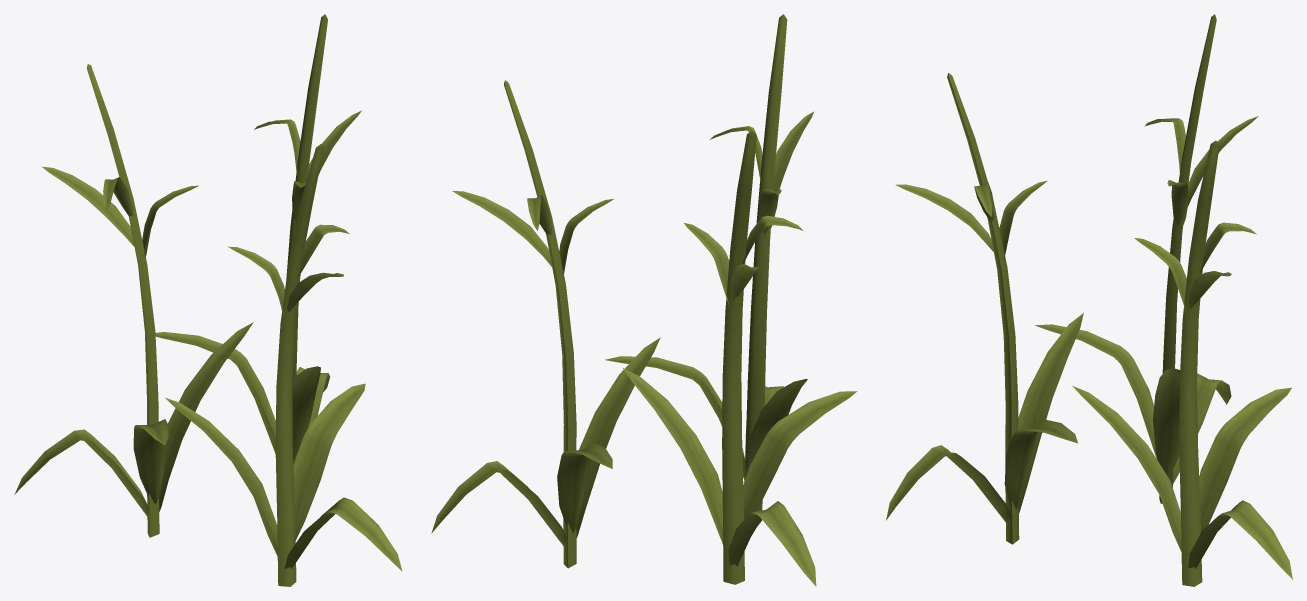
The model's file is Crop_Wheat_Stage_03.fbx.
3 renders of one model, left to right at view 1: azimuth 30°, elevation 25°; view 2: azimuth 150°, elevation 25°; view 3: azimuth 270°, elevation 25°, orthographic. The views are drawn at different scales.
Parts seen in each view (by area): view 1: Wheat_Stage_03; view 2: Wheat_Stage_03; view 3: Wheat_Stage_03.
Boxes of the visible parts, bbox=[...] form: Wheat_Stage_03: bbox=[14, 14, 402, 586]; Wheat_Stage_03: bbox=[431, 14, 857, 586]; Wheat_Stage_03: bbox=[886, 14, 1292, 586].
Size of the model in its own units: 39.89 by 51.47 by 39.71.
